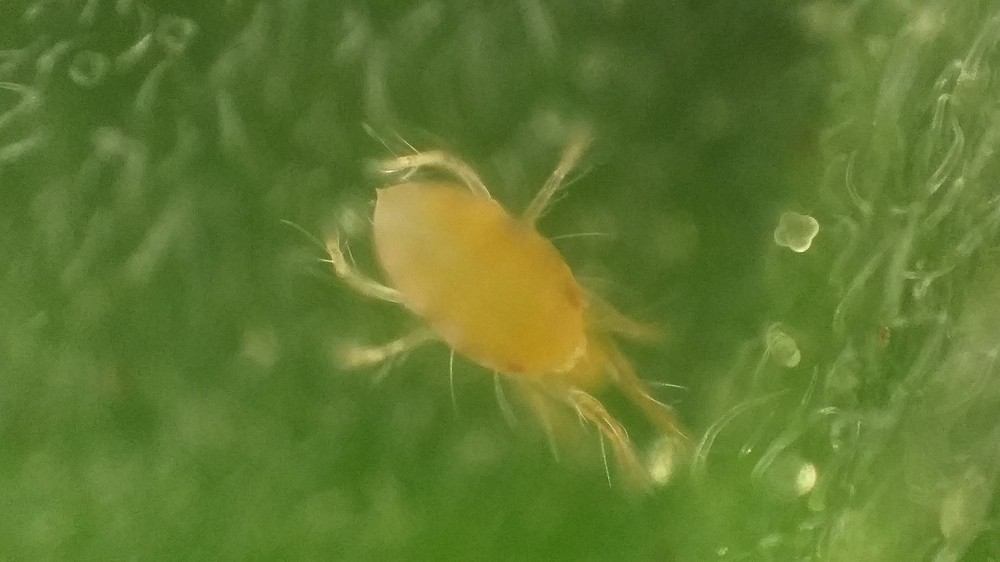Aracnido Rojo: (303, 113, 725, 490)
